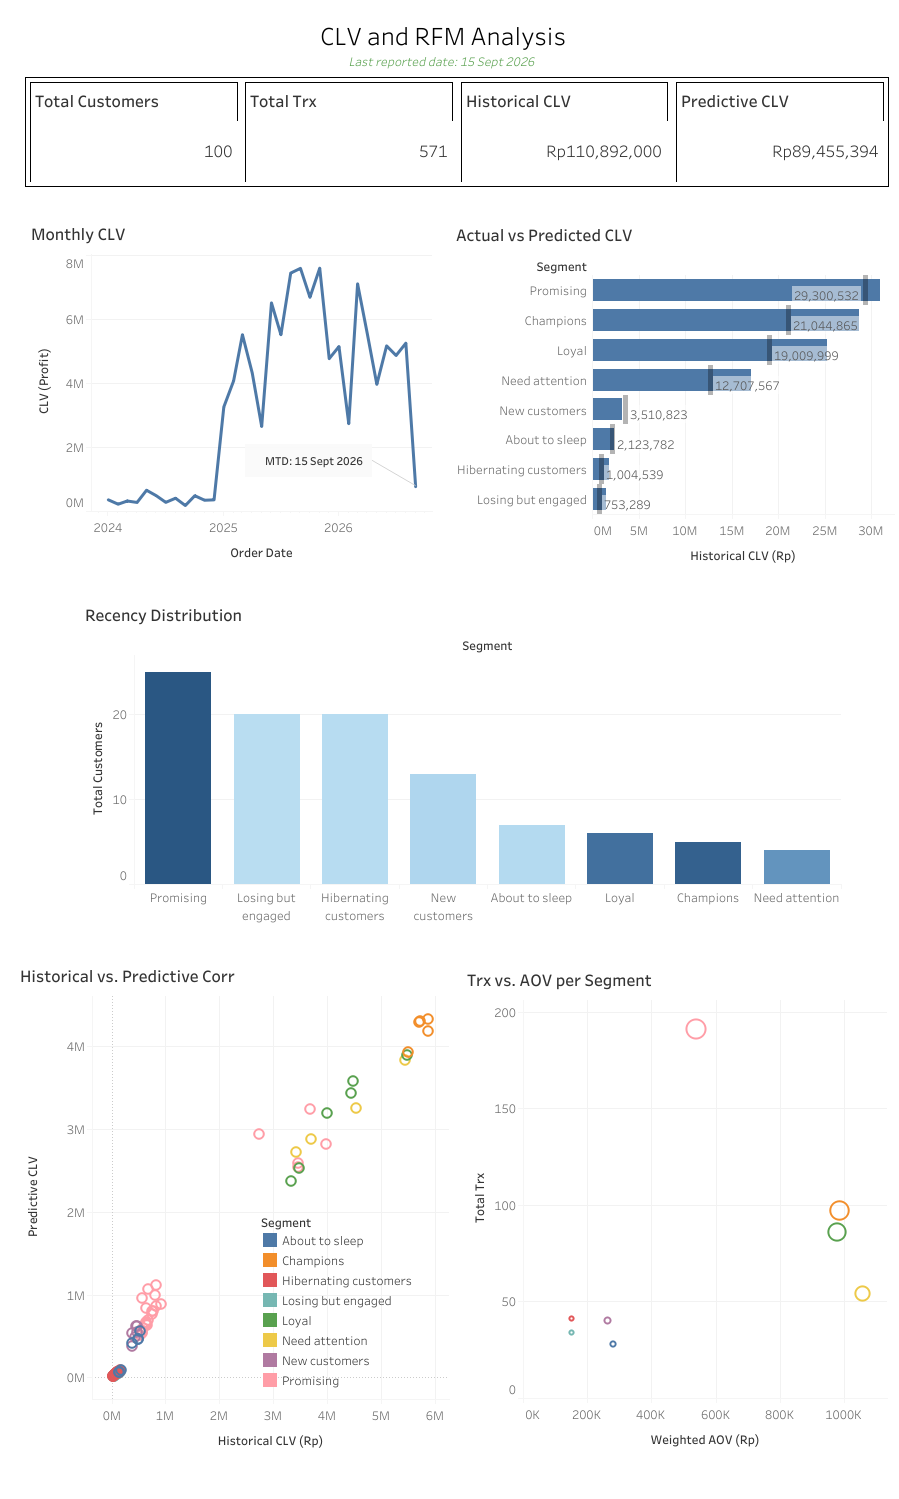

What the dashboard file says about the page in this screenshot:
{"tool":"tableau","page":{"name":"Dashboard 1","canvas":[900,1500],"ordinal":0},"visuals":[{"type":"text","box":[216,11,454,66]},{"type":"worksheet","title":"Total Customer","mark":"Automatic","box":[26,78,215.2,108]},{"type":"worksheet","title":"Total Trx","mark":"Automatic","box":[241.2,78,215.2,108]},{"type":"worksheet","title":"Historical CLV","mark":"Automatic","box":[456.5,78,216.2,108]},{"type":"worksheet","title":"Predictive CLV","mark":"Automatic","box":[672.7,78,215.2,108]},{"type":"worksheet","title":"Monthly CLV","mark":"Automatic","rows":["Calculation_6515752384323584"],"cols":["Order Date"],"box":[27,216.4,405,351.4]},{"type":"worksheet","title":"Actual vs Predicted CLV","mark":"Automatic","rows":["Segment"],"cols":["Historical CLV (profit)"],"box":[452,217,442,354]},{"type":"worksheet","title":"Recency Distribution","mark":"Automatic","rows":["Customer ID (RFM)"],"cols":["Segment"],"box":[81,596.8,760,326.8]},{"type":"worksheet","title":"Historical vs. Predictive Corr","mark":"Automatic","rows":["Discounted CLV"],"cols":["Historical CLV (profit)"],"box":[16,958,433,498]},{"type":"worksheet","title":"Trx vs. AOV per Segment","mark":"Automatic","rows":["Order ID"],"cols":["Calculation_0111922012745728"],"box":[463,962,424,493]},{"type":"legend","title":"Historical vs. Predictive Corr","param":"[federated.1b7cnr509l7fs111z1wok0e7ea7h].[none:Segment:nk]","box":[260,1211,187,191]}]}

Visuals, with their boxes in screenshot pixels (x1, y1, x2, y2), scaled from the page's 900x1500 canvas onto the 899x1499 screenshot:
text: <box>216,11,669,77</box>
"Total Customer" worksheet: <box>26,78,241,186</box>
"Total Trx" worksheet: <box>241,78,456,186</box>
"Historical CLV" worksheet: <box>456,78,672,186</box>
"Predictive CLV" worksheet: <box>672,78,887,186</box>
"Monthly CLV" worksheet: <box>27,216,432,567</box>
"Actual vs Predicted CLV" worksheet: <box>451,217,893,571</box>
"Recency Distribution" worksheet: <box>81,596,840,923</box>
"Historical vs. Predictive Corr" worksheet: <box>16,957,449,1455</box>
"Trx vs. AOV per Segment" worksheet: <box>462,961,886,1454</box>
"Historical vs. Predictive Corr" legend: <box>260,1210,447,1401</box>
